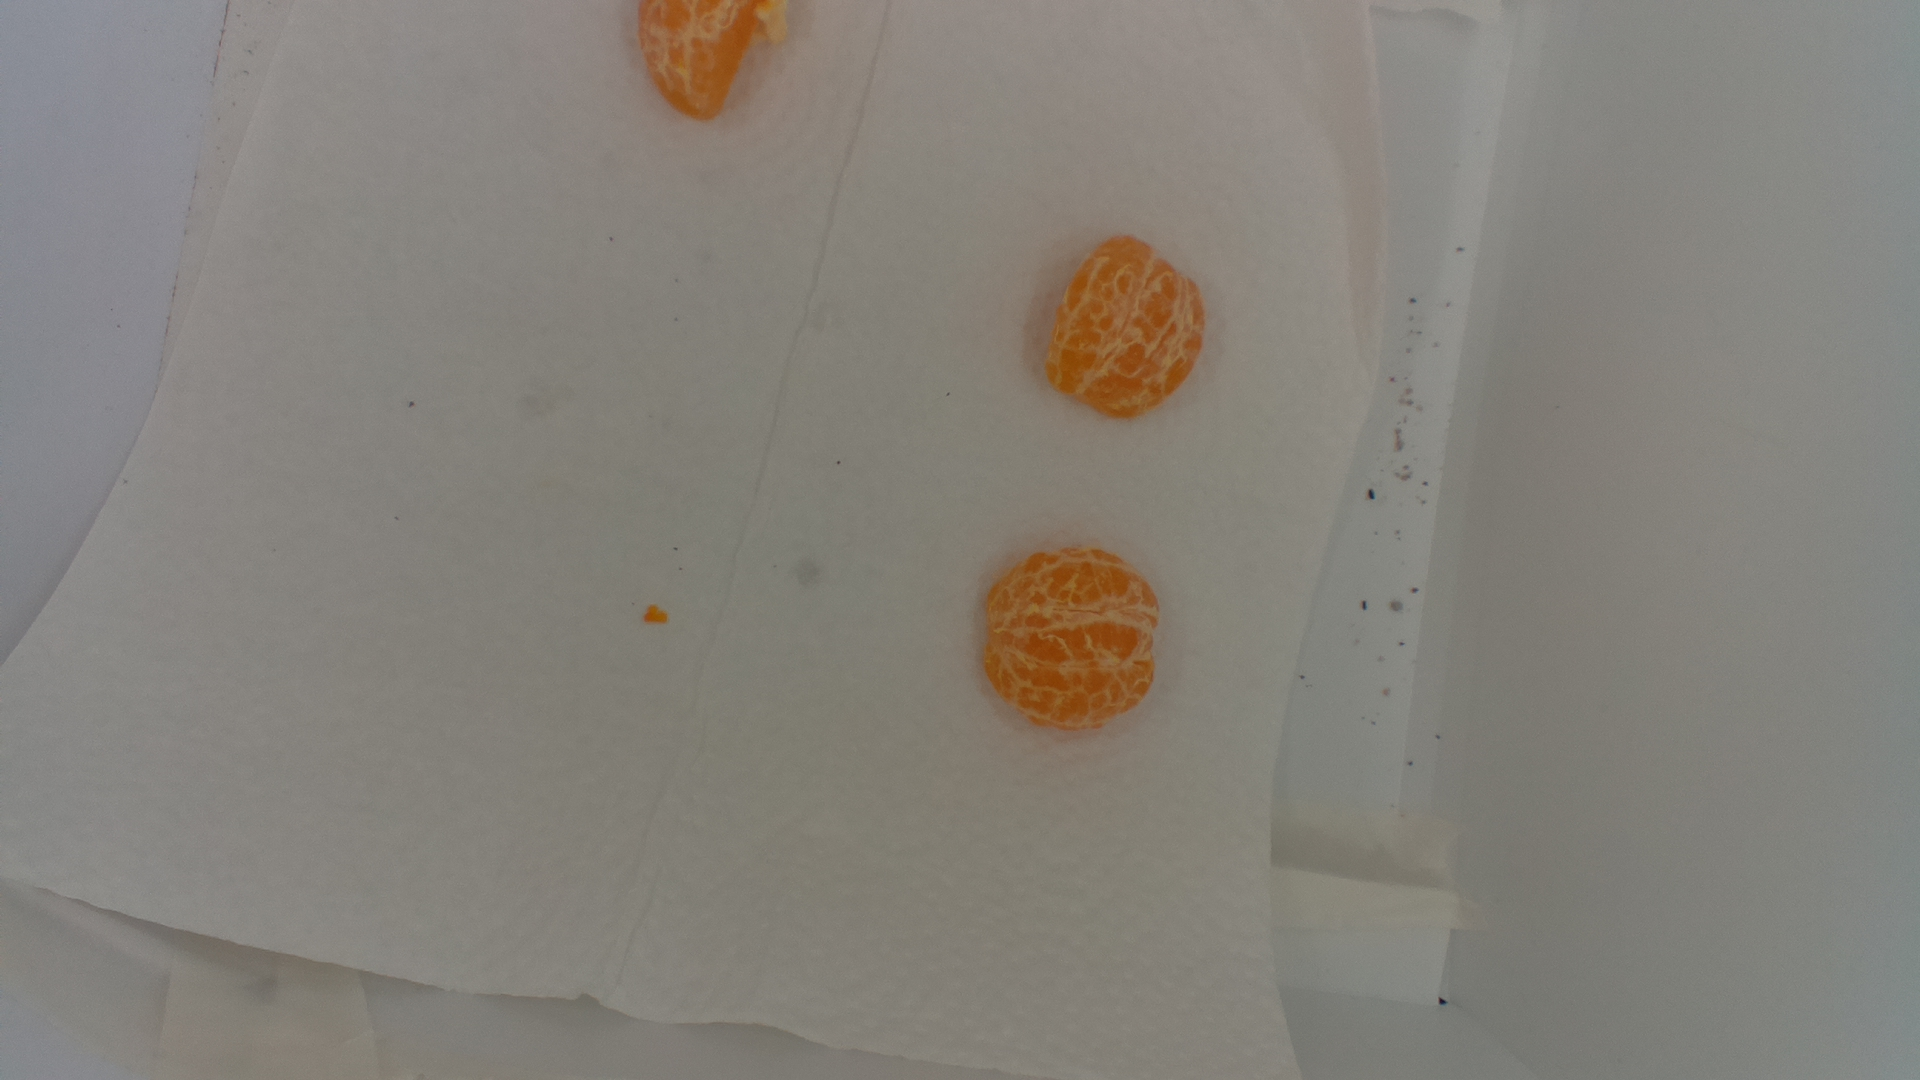fruit: (980, 541, 1168, 732), (1040, 232, 1217, 422), (628, 1, 802, 119)
